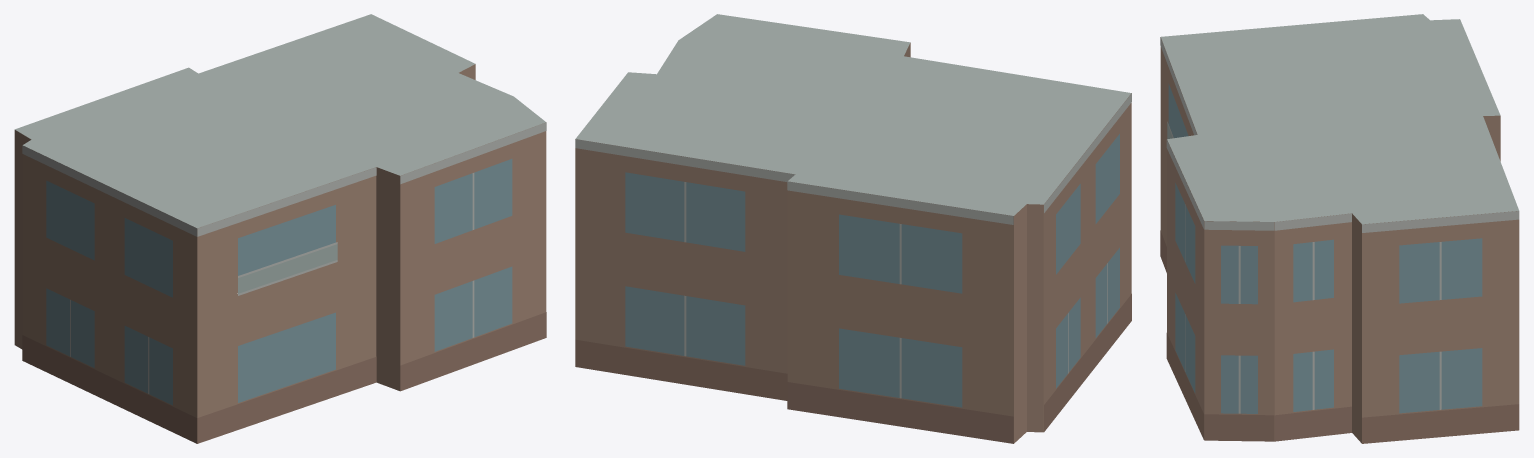
The model's file is survey-upis-32636921.glb.
3 renders of one model, left to right at view 1: azimuth 30°, elevation 25°; view 2: azimuth 150°, elevation 25°; view 3: azimuth 270°, elevation 25°, orthographic. The views are drawn at different scales.
Visible parts, largest first — view 1: survey-upis-32636921.tmp; view 2: survey-upis-32636921.tmp; view 3: survey-upis-32636921.tmp.
Part boxes in pixels (left/top/right/bottom): survey-upis-32636921.tmp: left=14, top=14, right=546, bottom=443; survey-upis-32636921.tmp: left=575, top=14, right=1131, bottom=443; survey-upis-32636921.tmp: left=1160, top=14, right=1519, bottom=443.
Size of the model in its own units: 12.55 by 6.1 by 9.05.
